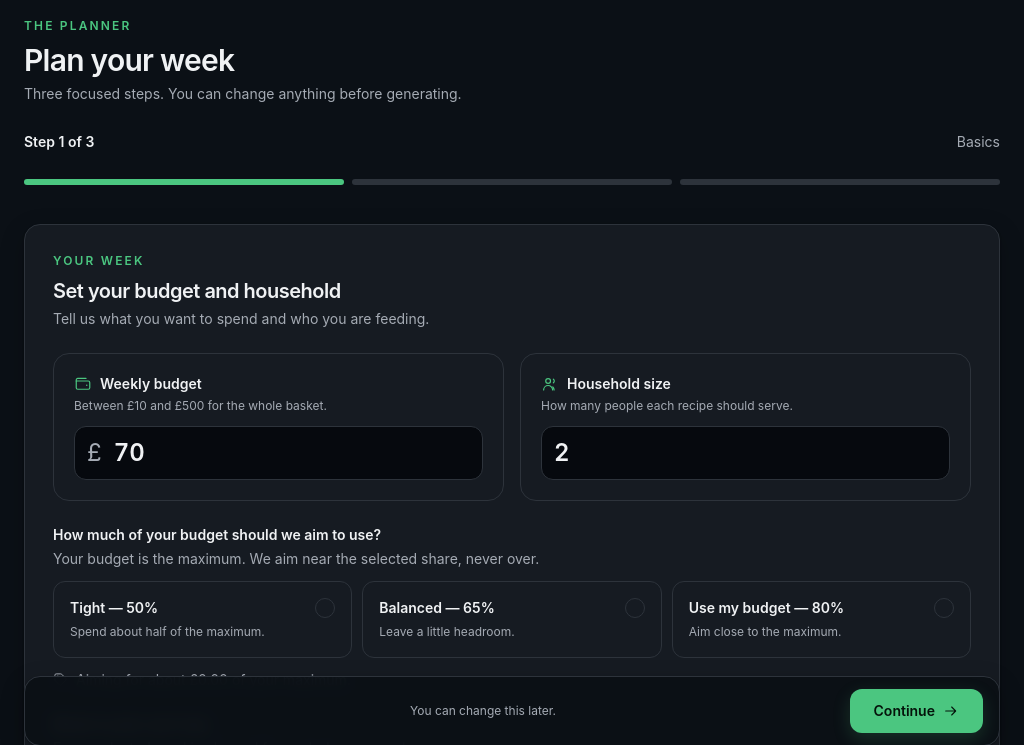
it: budget and must-have results › lists where each must-have product was used
Click the button "Continue": (916,711) [850,689,983,733]
(page scrolled)
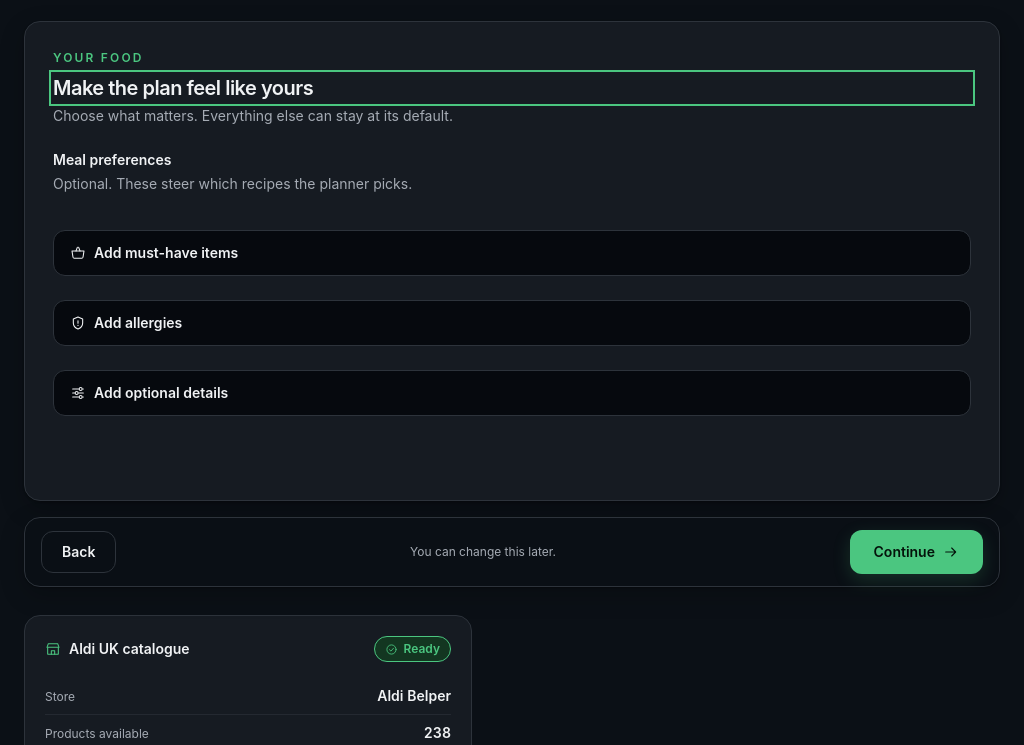
Click the button "Continue": (916,552) [850,530,983,574]
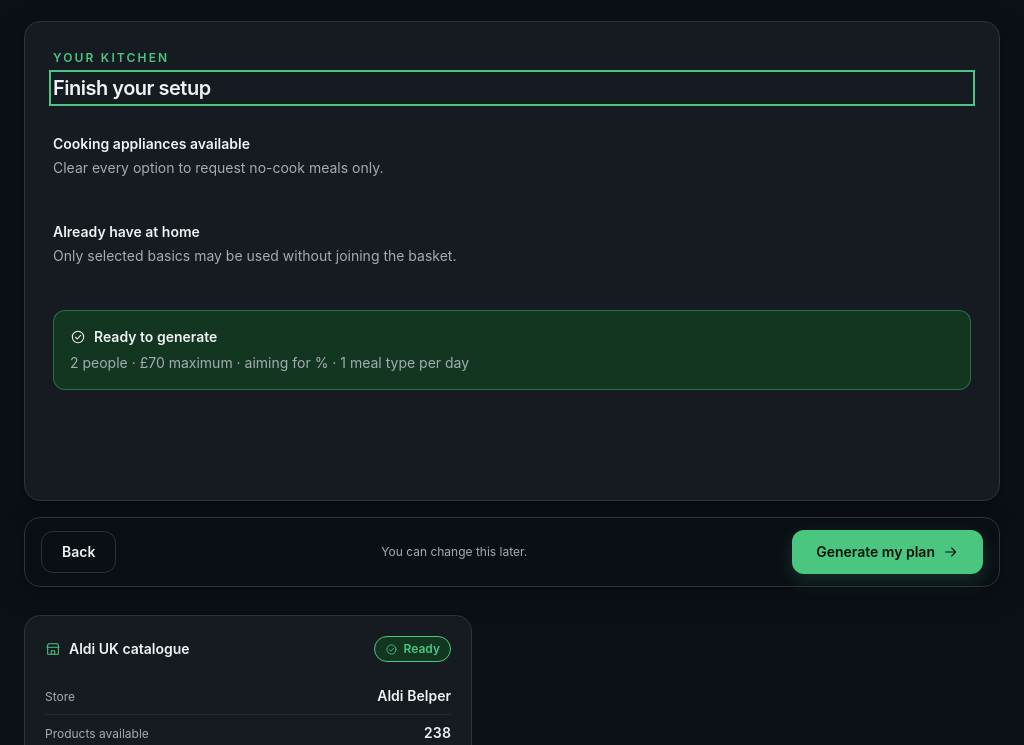
Click the button "Generate my plan": (888,552) [792,530,983,574]
(page scrolled)
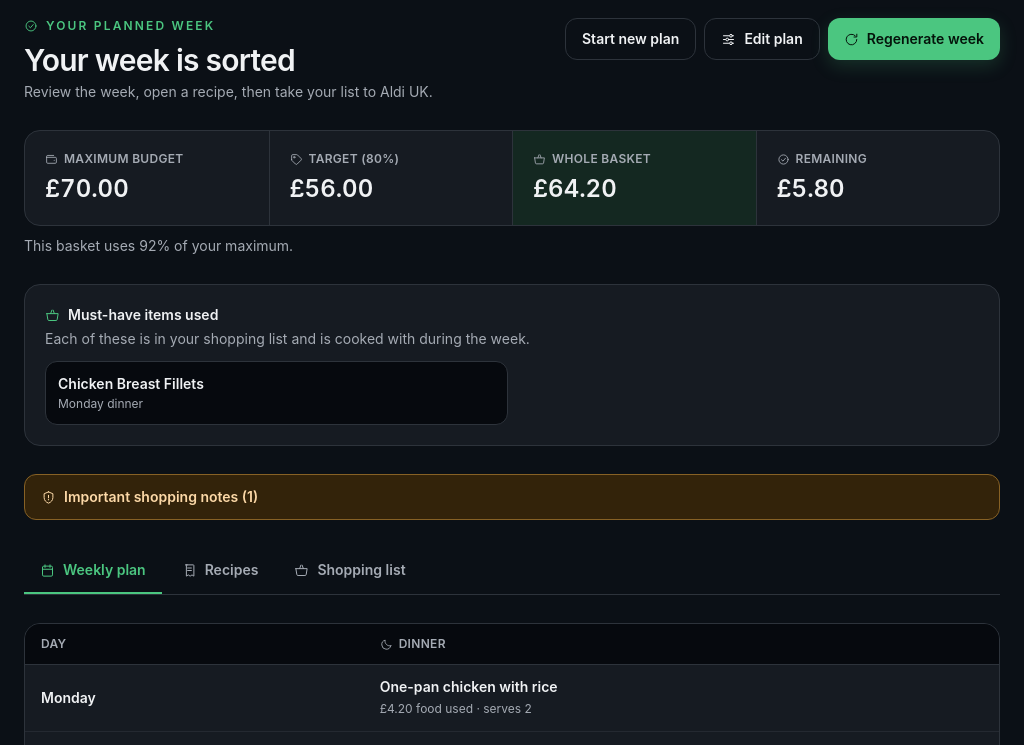
Check: the text "Chicken Breast Fillets" is shown, box [58,375,204,392]
Check: the text "Monday dinner" is shown, box [58,396,143,411]
